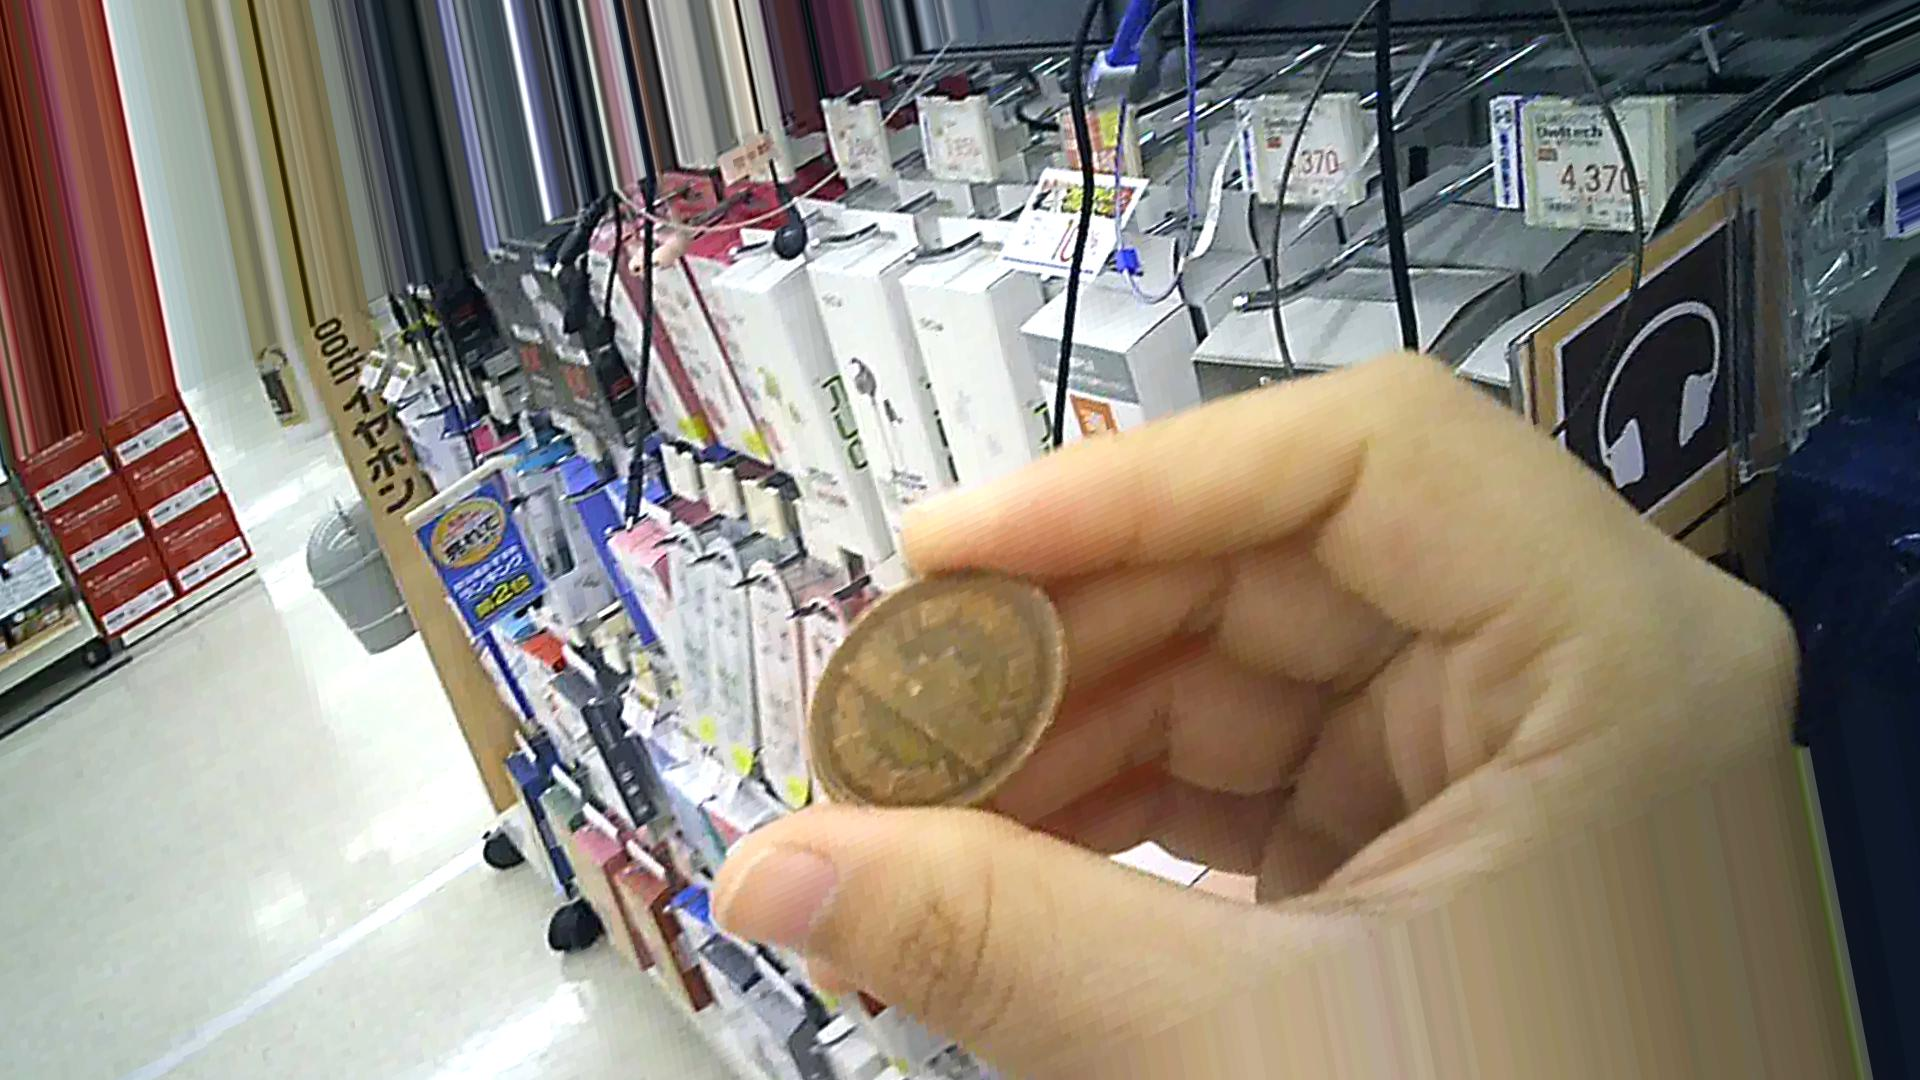10 Yen: (796, 559, 1087, 832)
